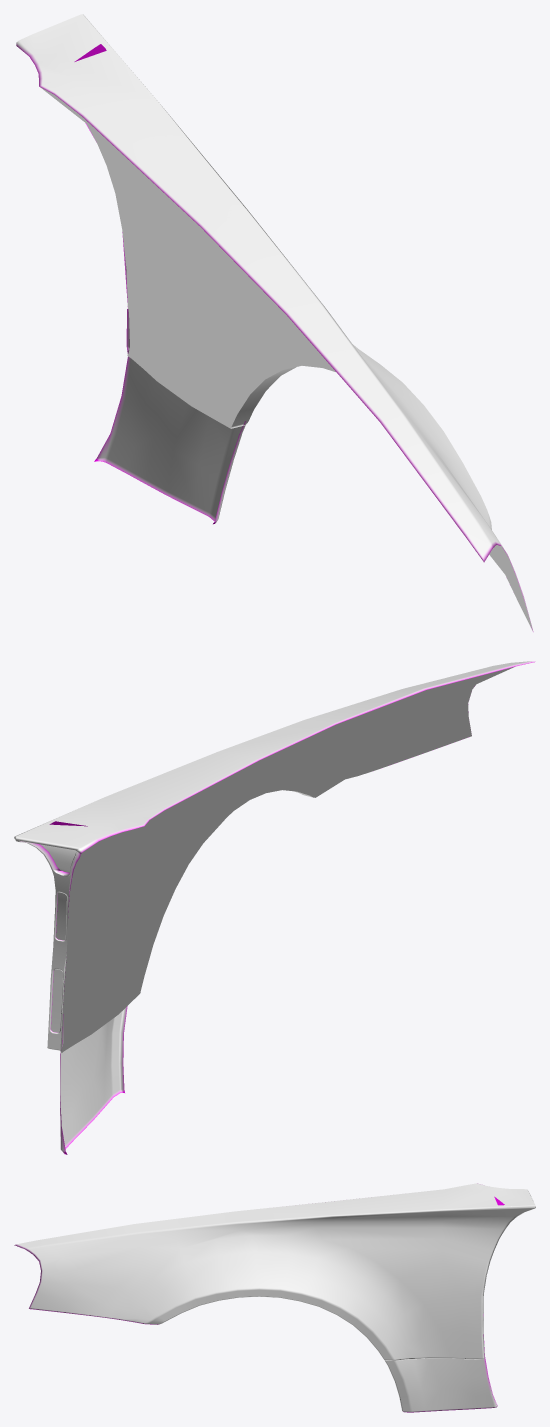
Rendered from Car_Nissan_SkylineGTRVspecR34_1999_FenderFL_SetE_AltA.fbx.
3 views of the same model, one above another, from view 1: azimuth 30°, elevation 25°; view 2: azimuth 150°, elevation 25°; view 3: azimuth 270°, elevation 25° (orthographic). The views are drawn at different scales.
Visible parts, largest first — view 1: FenderFL 6; view 2: FenderFL 6; view 3: FenderFL 6.
Boxes of the visible parts, x1=… form: FenderFL 6: x1=16, y1=14, x2=533, y2=631; FenderFL 6: x1=14, y1=661, x2=535, y2=1154; FenderFL 6: x1=14, y1=1183, x2=535, y2=1412.
Size of the model in its own units: 0.2093 by 0.5763 by 1.32.
